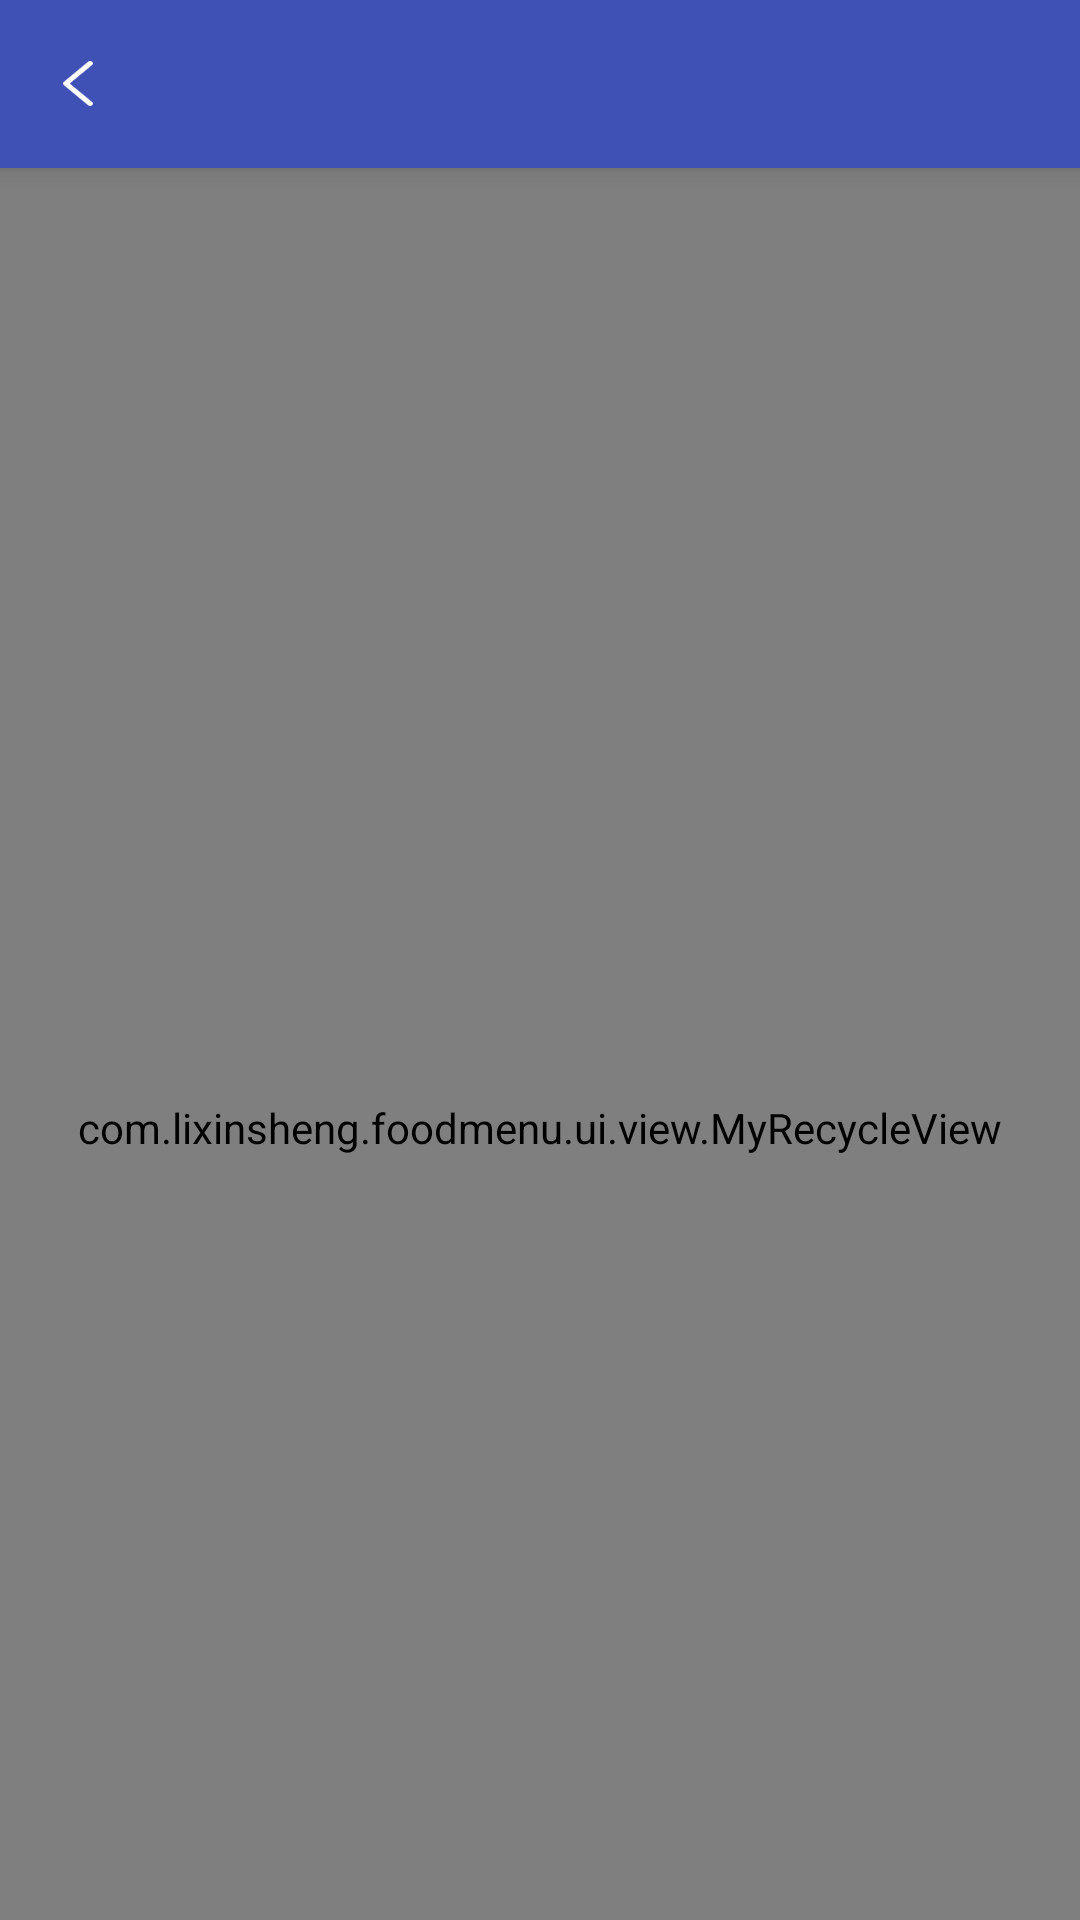

Icon bounding boxes for this 1080x1920 phone screenshot, format bbox=(x1, y1, x2, y2):
back: bbox=(63, 61, 93, 106)
